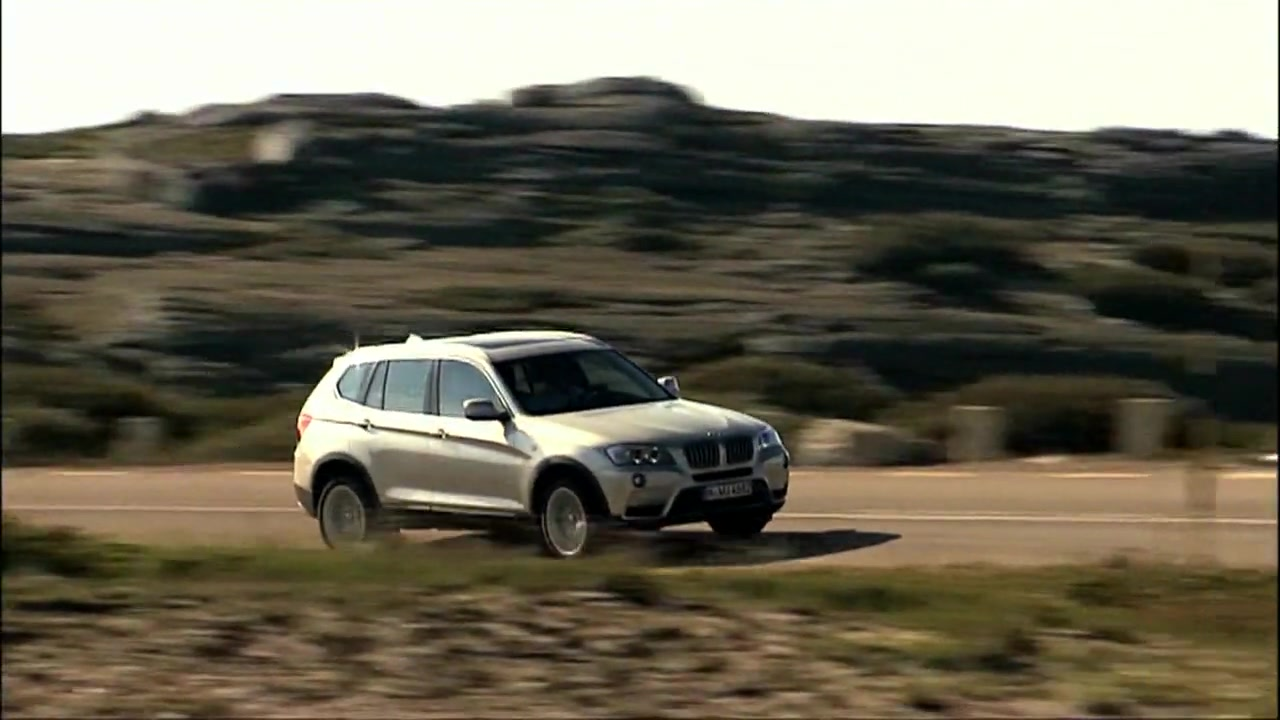car: (290, 325, 795, 566)
